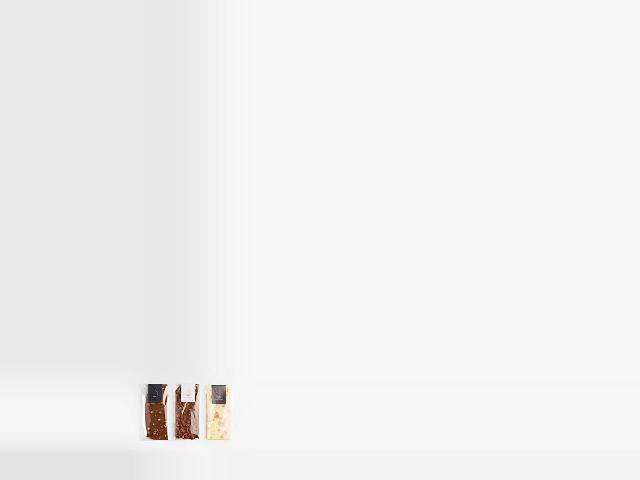chocolate: (140, 384, 166, 442)
